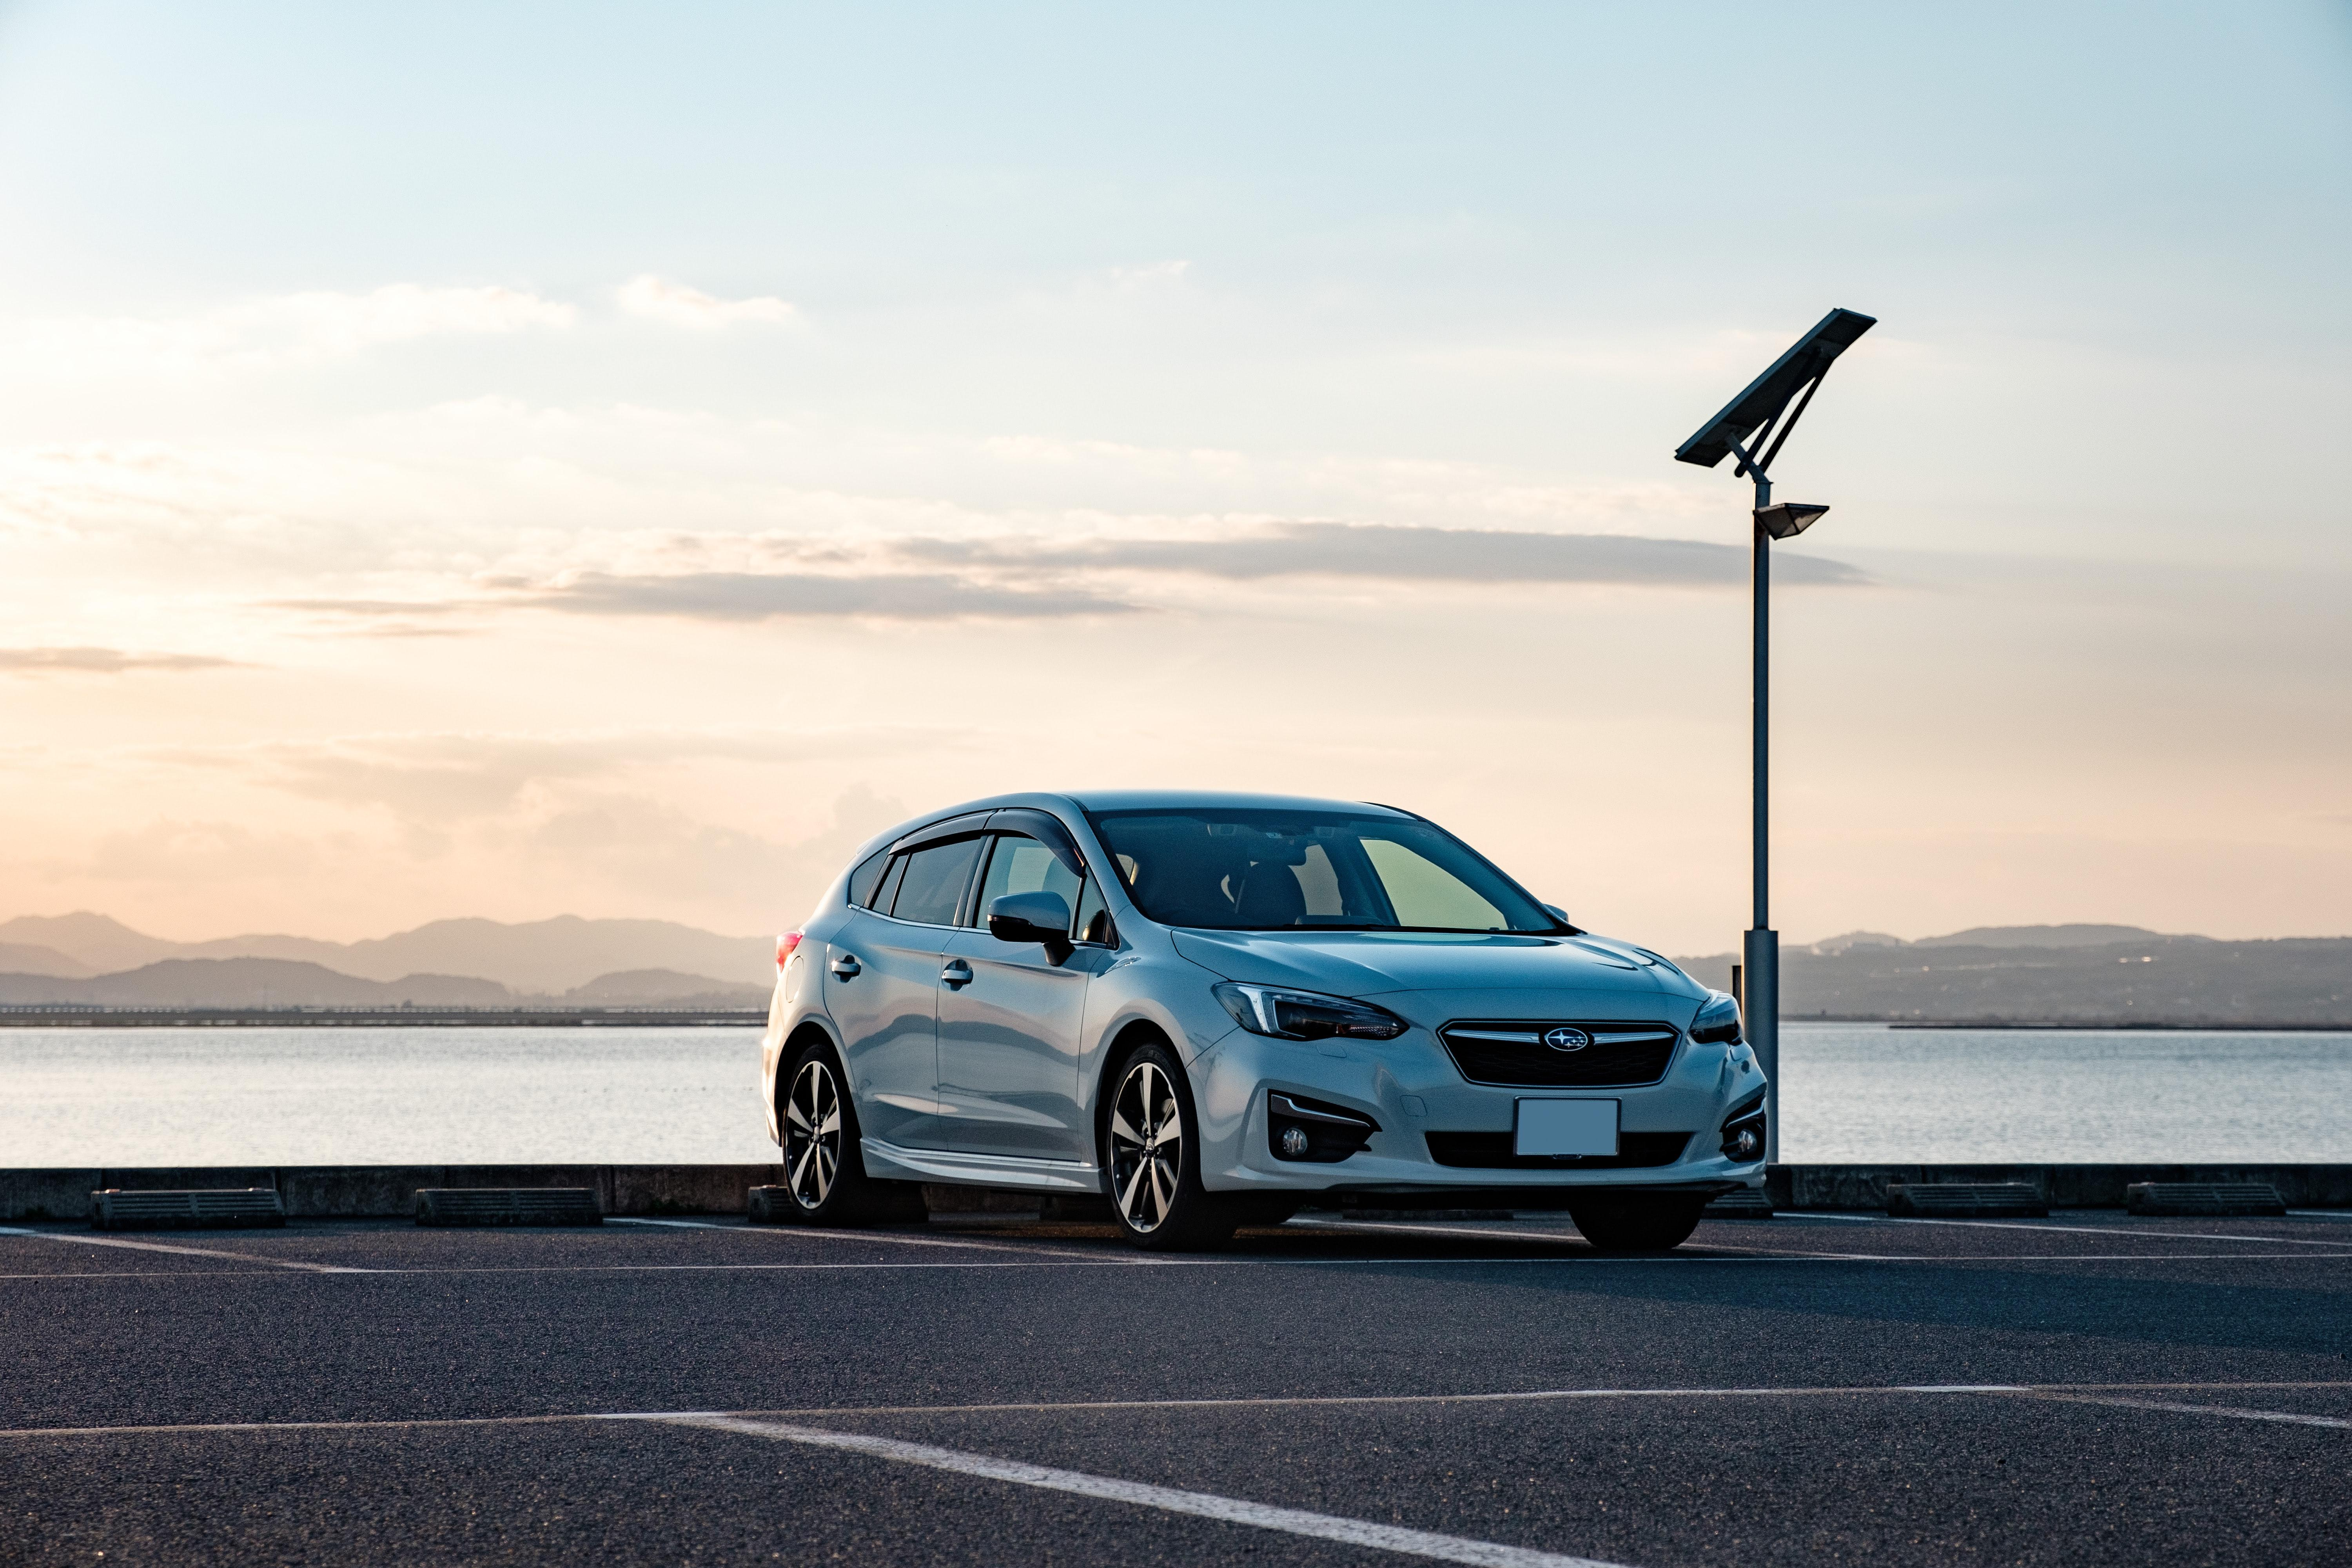subaru: (1520, 1008, 1607, 1064)
